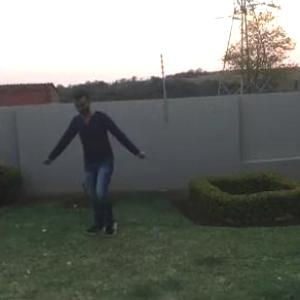land: (44, 81, 148, 233)
